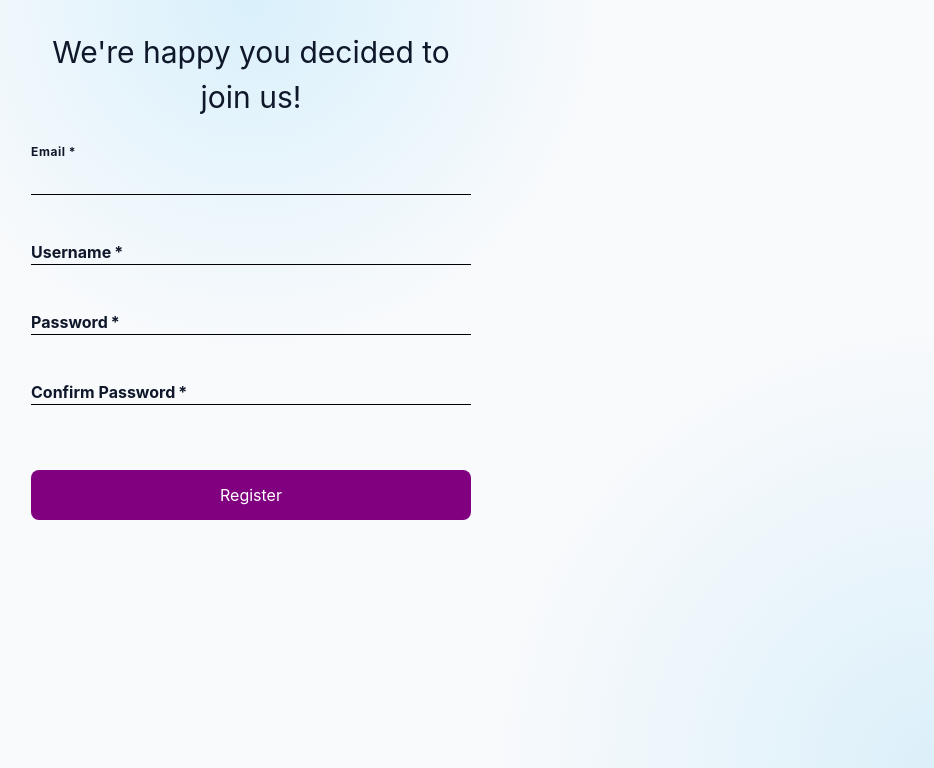
Test: RegisterUserForm › says the username is taken when the player leaves the field
Type "taken_name" into the field labelled "Username *" at [251, 248], box [31, 230, 471, 265]
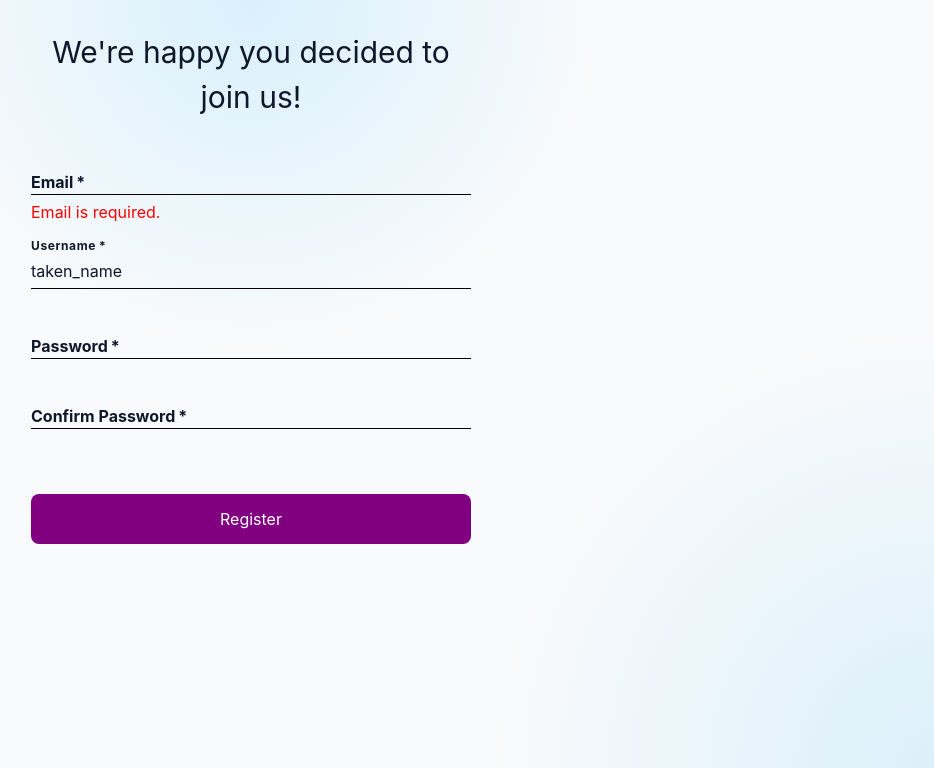
Press Tab
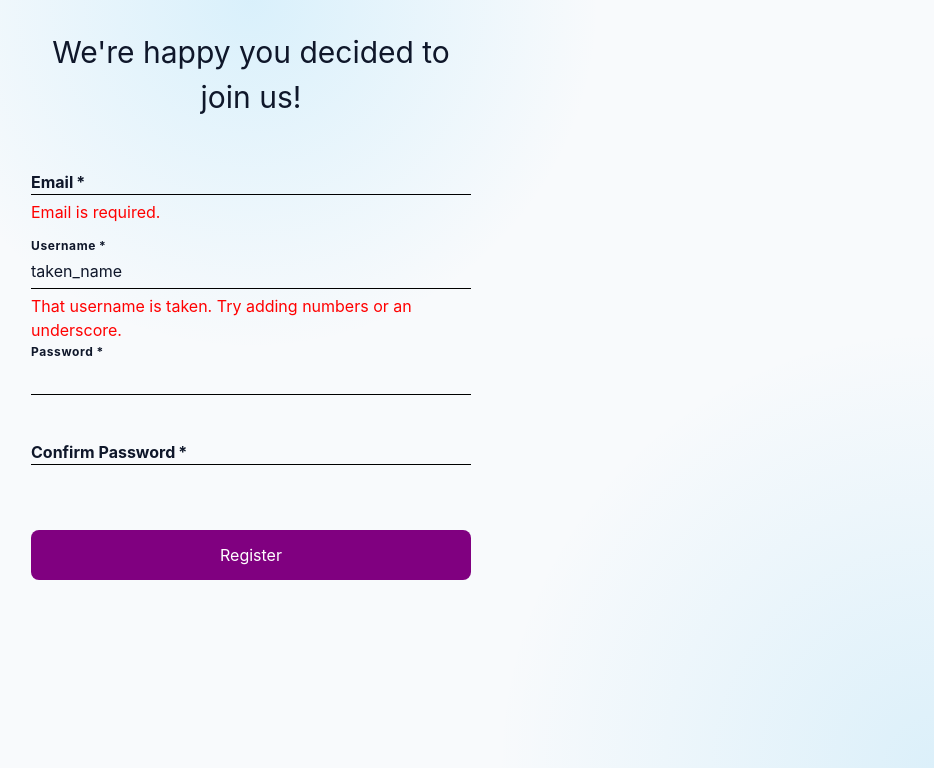
Check: the text "That username is taken. Try adding numbers or an underscore." is shown, box [31, 294, 471, 330]
